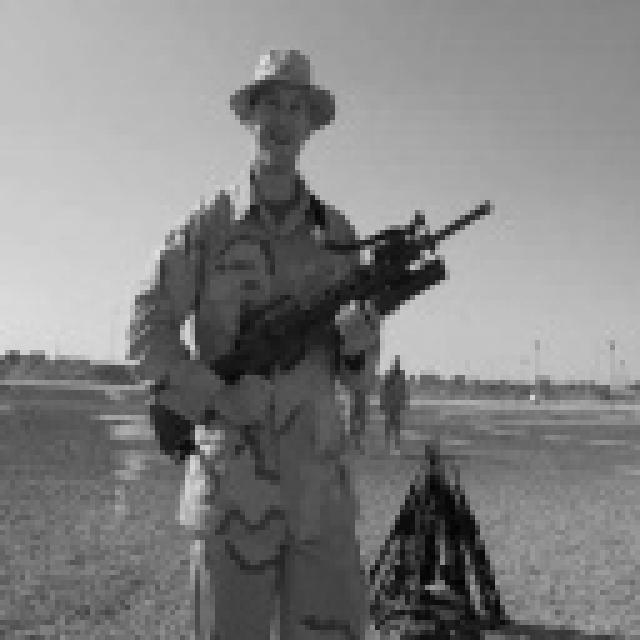Rifle: (139, 177, 514, 480)
